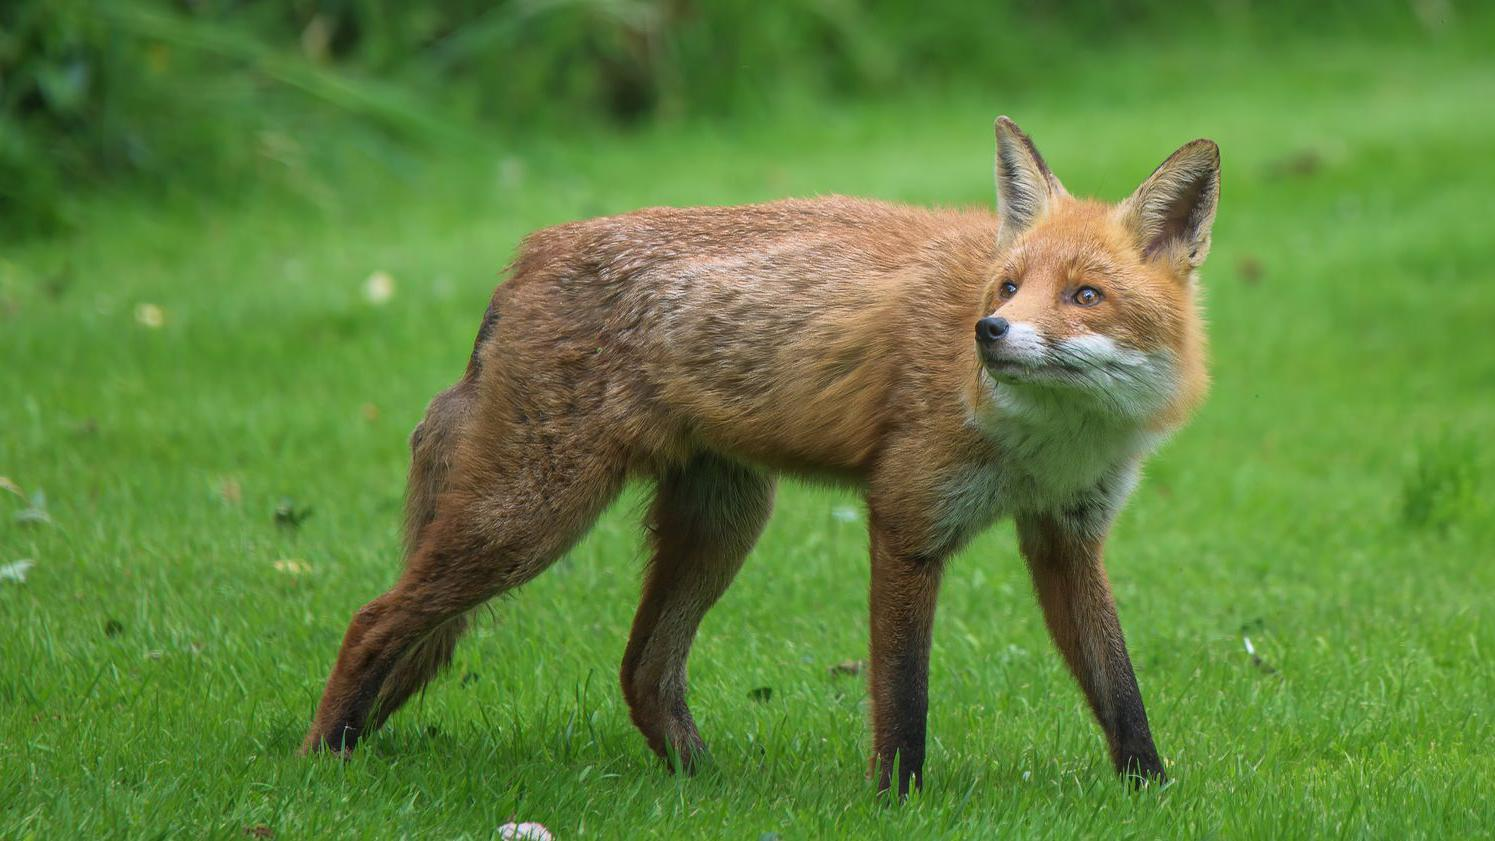fox: (235, 50, 1409, 841)
